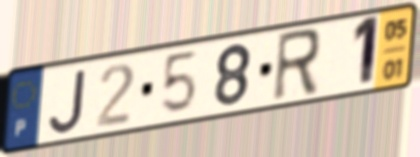1: (349, 13, 381, 90)
2: (93, 61, 137, 130)
5: (159, 47, 199, 117)
8: (211, 41, 254, 110)
J: (47, 67, 89, 136)
R: (269, 25, 323, 106)
